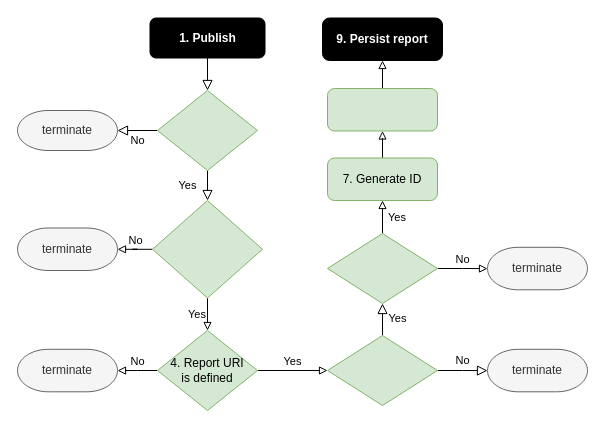
Some shapes in this 605 by 428 pixel diagram are drawn without their labels. Here are the shapes that lost their labels. From the top down, the centre of each, then its label:
At point (382, 109): "8. Create report entry".
At point (207, 130): "2. User is authorized".
At point (207, 249): "3. Referenced resource is published".
At point (382, 268): "6. Verdict is provided".
At point (382, 370): "5. Brief description is given".
